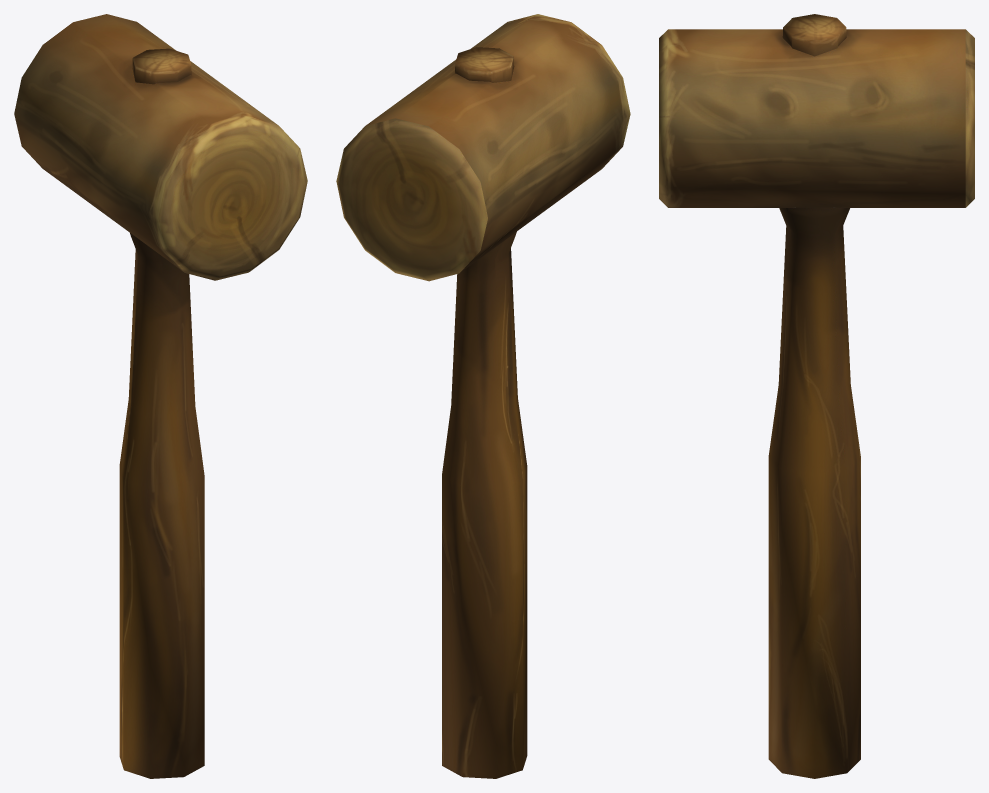
The model's file is MalletModel.fbx.
The picture shows the model from 3 angles, left to right: view 1: azimuth 30°, elevation 25°; view 2: azimuth 150°, elevation 25°; view 3: azimuth 270°, elevation 25°; orthographic projection. The views are drawn at different scales.
Visible parts, largest first — view 1: MalletModel; view 2: MalletModel; view 3: MalletModel.
Boxes of the visible parts, <box> form: MalletModel: <box>14,14,307,778</box>; MalletModel: <box>336,14,630,778</box>; MalletModel: <box>659,14,974,778</box>.
Size of the model in its own units: 1.87 by 8.28 by 3.24.
